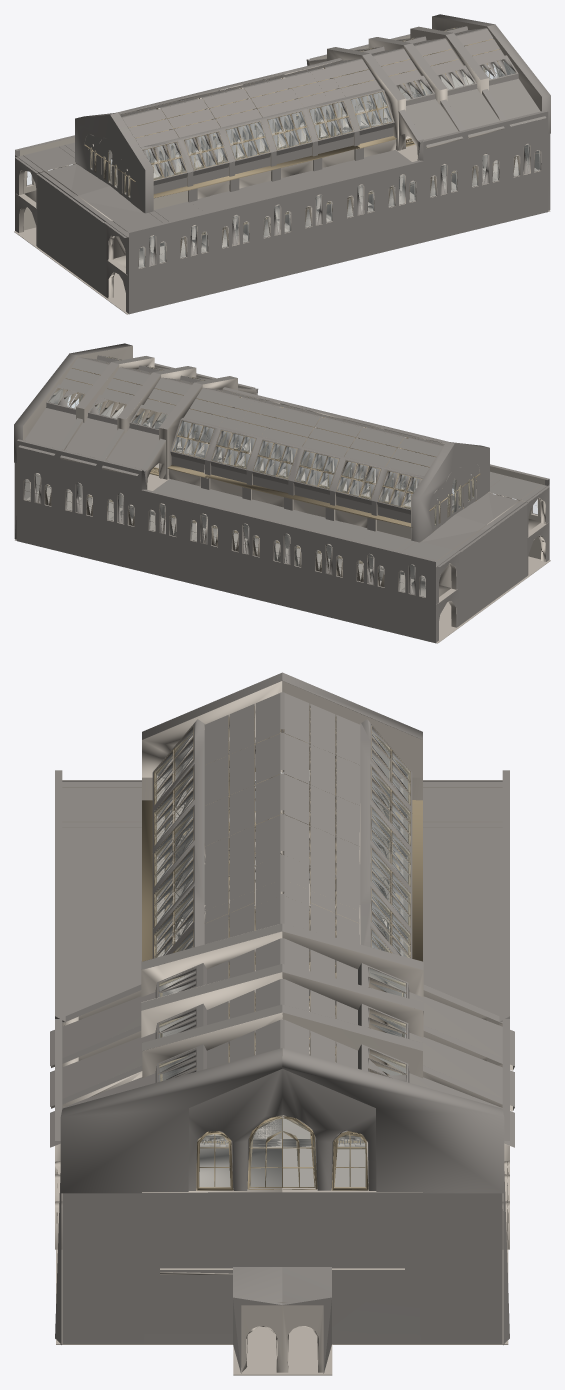
File: museo.glb
3 renders of one model, top to bottom at view 1: azimuth 30°, elevation 25°; view 2: azimuth 150°, elevation 25°; view 3: azimuth 270°, elevation 25°, orthographic. The views are drawn at different scales.
Visible parts, largest first — view 1: Murs_ext_mur_ext_0.001, vitres_vitres_0, metal_ext_mur_ext_0, Murs_int_export_Mur_Int_UV2_0, Deco_Metal_deco_0, Murs_int_export_Mur_Int_UV1_0, Murs_int001_export_Mur_Int001_UV1_0, Murs_int001_export_Mur_Int001_UV2_0, Murs_int_export_Mur_Int_UV1_0.001, Murs_int001_export_Mur_Int001_UV1_0.001, Deco_Metal_metal_0, sol_export_sol_0 (+2 smaller); view 2: Murs_ext_mur_ext_0.001, vitres_vitres_0, metal_ext_mur_ext_0, Murs_int001_export_Mur_Int001_UV2_0, Deco001_Metal001_deco001_0, Murs_int001_export_Mur_Int001_UV1_0, Murs_int_export_Mur_Int_UV1_0, Deco001_Metal001_metal001_0, Murs_int_export_Mur_Int_UV2_0, Murs_int001_export_Mur_Int001_UV1_0.001, Murs_int_export_Mur_Int_UV1_0.001, sol_export_sol_0 (+2 smaller); view 3: Murs_ext_mur_ext_0.001, vitres_vitres_0, Murs_int_export_Mur_Int_UV1_0, Murs_int001_export_Mur_Int001_UV1_0, metal_ext_mur_ext_0, Deco001_Metal001_deco001_0, Deco_Metal_deco_0, Murs_int001_export_Mur_Int001_UV2_0, Murs_int_export_Mur_Int_UV2_0, sol_export_sol_0, Deco001_Metal001_metal001_0, Murs_int_export_Mur_Int_UV1_0.001 (+1 smaller).
Part boxes in pixels (x1,y1,x2,y2): Murs_ext_mur_ext_0.001: (15, 14, 550, 314); vitres_vitres_0: (27, 28, 539, 267); metal_ext_mur_ext_0: (27, 27, 541, 268); Murs_int_export_Mur_Int_UV2_0: (108, 62, 539, 297); Deco_Metal_deco_0: (112, 39, 515, 203); Murs_int_export_Mur_Int_UV1_0: (78, 35, 537, 298); Murs_int001_export_Mur_Int001_UV1_0: (19, 28, 467, 232); Murs_int001_export_Mur_Int001_UV2_0: (17, 29, 446, 231); Murs_int_export_Mur_Int_UV1_0.001: (114, 27, 541, 266); Murs_int001_export_Mur_Int001_UV1_0.001: (20, 16, 486, 230); Deco_Metal_metal_0: (110, 78, 539, 255); sol_export_sol_0: (14, 210, 550, 314); Murs_ext_mur_ext_0.001: (14, 343, 549, 643); vitres_vitres_0: (24, 357, 537, 596); metal_ext_mur_ext_0: (24, 356, 537, 597); Murs_int001_export_Mur_Int001_UV2_0: (25, 392, 457, 625); Deco001_Metal001_deco001_0: (48, 368, 452, 527); Murs_int001_export_Mur_Int001_UV1_0: (27, 365, 486, 627); Murs_int_export_Mur_Int_UV1_0: (98, 358, 545, 561); Deco001_Metal001_metal001_0: (24, 388, 454, 586); Murs_int_export_Mur_Int_UV2_0: (115, 358, 547, 541); Murs_int001_export_Mur_Int001_UV1_0.001: (23, 356, 450, 595); Murs_int_export_Mur_Int_UV1_0.001: (78, 345, 544, 559); sol_export_sol_0: (15, 539, 550, 643); Murs_ext_mur_ext_0.001: (50, 672, 514, 1373); vitres_vitres_0: (155, 730, 410, 1186); Murs_int_export_Mur_Int_UV1_0: (51, 681, 282, 1359); Murs_int001_export_Mur_Int001_UV1_0: (282, 681, 514, 1361); metal_ext_mur_ext_0: (154, 727, 410, 1081); Deco001_Metal001_deco001_0: (282, 706, 422, 1190); Deco_Metal_deco_0: (142, 706, 282, 1190); Murs_int001_export_Mur_Int001_UV2_0: (282, 724, 513, 1372); Murs_int_export_Mur_Int_UV2_0: (55, 724, 282, 1372); sol_export_sol_0: (56, 1017, 508, 1375); Deco001_Metal001_metal001_0: (309, 744, 508, 1248); Murs_int_export_Mur_Int_UV1_0.001: (55, 732, 282, 1249).
Size of the model in its own units: 130 by 40.66 by 57.57.
